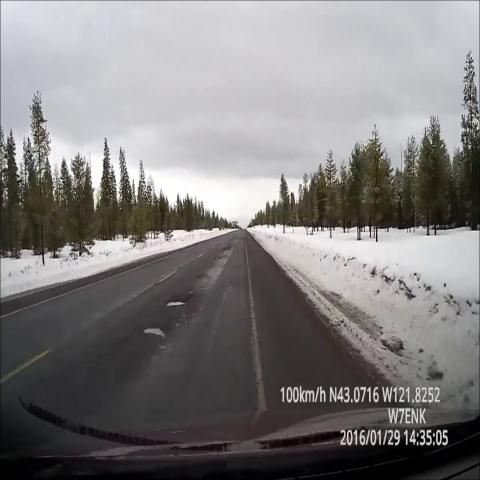pothole: (160, 290, 196, 314), (137, 322, 170, 345), (210, 245, 235, 266), (194, 264, 210, 282)
